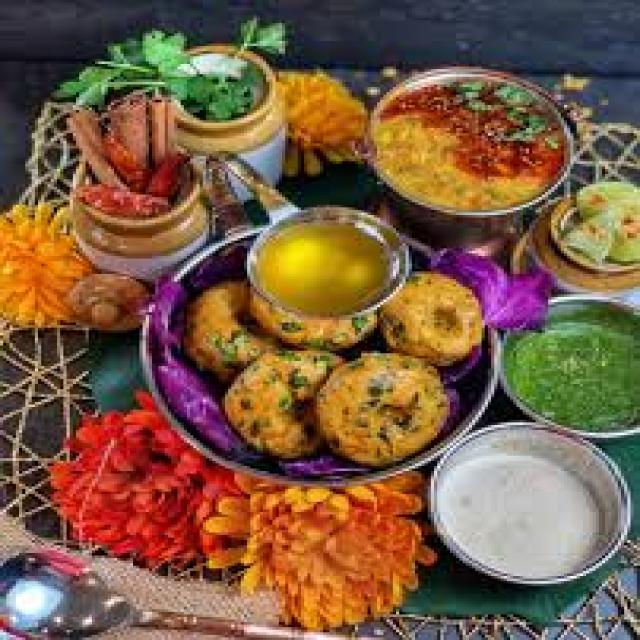MEDU VADA: (319, 352, 454, 467), (226, 350, 343, 454), (183, 281, 291, 389), (377, 271, 480, 364), (248, 285, 382, 351)
